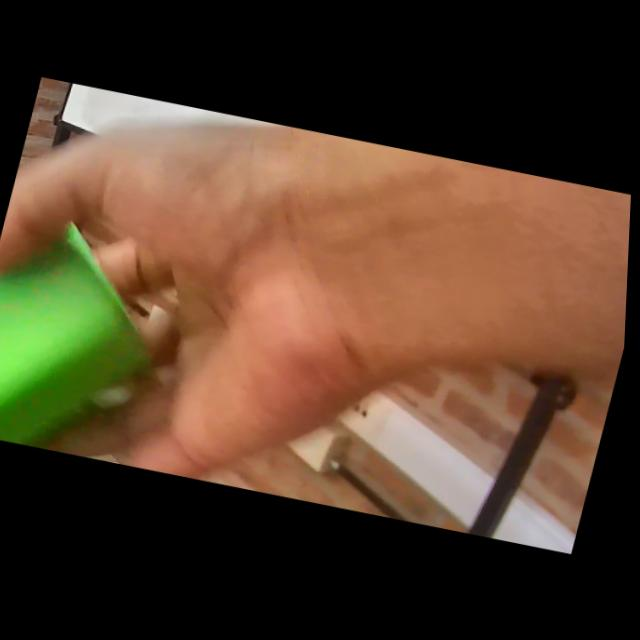greenBox: (0, 181, 194, 467)
